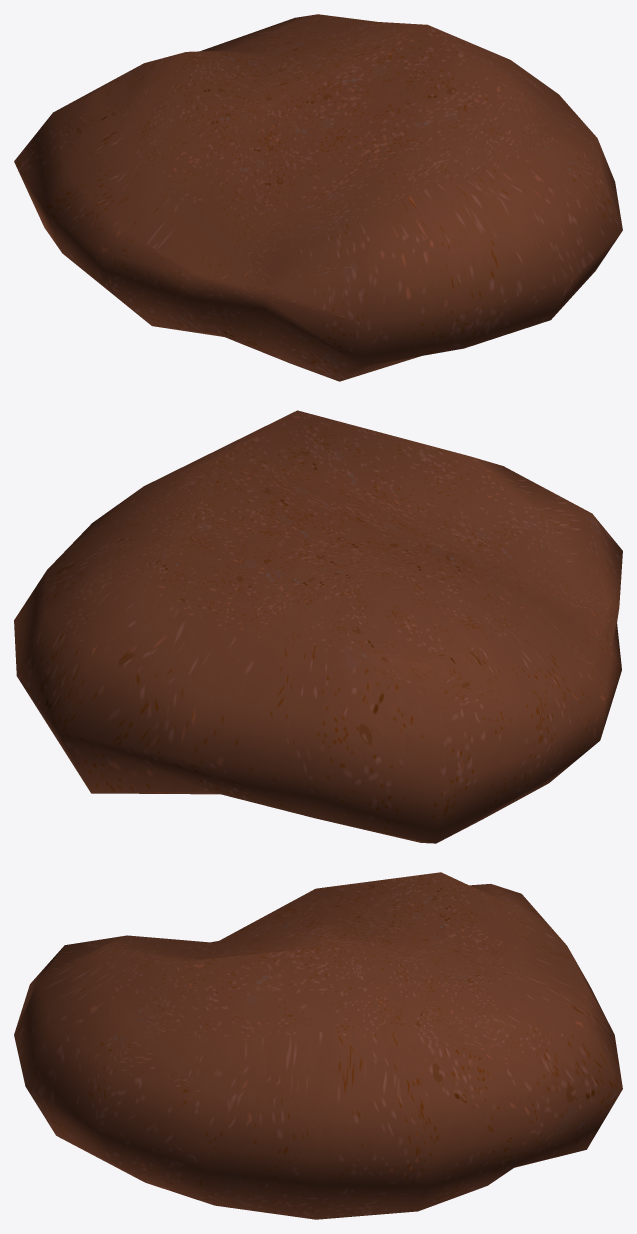
File: Tierra.fbx
3 views of the same model, one above another, from view 1: azimuth 30°, elevation 25°; view 2: azimuth 150°, elevation 25°; view 3: azimuth 270°, elevation 25° (orthographic). The views are drawn at different scales.
Parts seen in each view (by area): view 1: Plane; view 2: Plane; view 3: Plane.
Boxes of the visible parts, x1,y1,x2,y2 form: Plane: (14,14,622,381); Plane: (14,410,622,843); Plane: (14,872,622,1219).
Bounding box in the file's own units: 110 × 62.45 × 120.
Materials: 1 (1 with a texture image).
